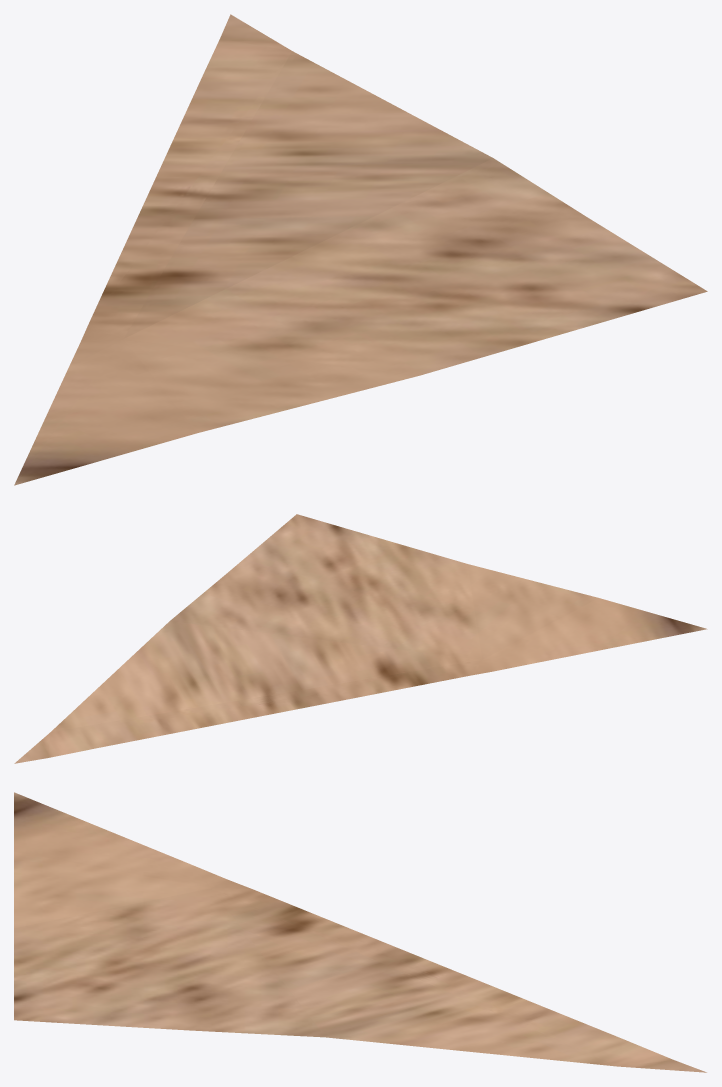
The picture shows the model from 3 angles, top to bottom: view 1: azimuth 30°, elevation 25°; view 2: azimuth 150°, elevation 25°; view 3: azimuth 270°, elevation 25°; orthographic projection. The views are drawn at different scales.
Bounding box in the file's own units: 1.12 × 0.1113 × 1.33.
Materials: 1 (1 with a texture image).
